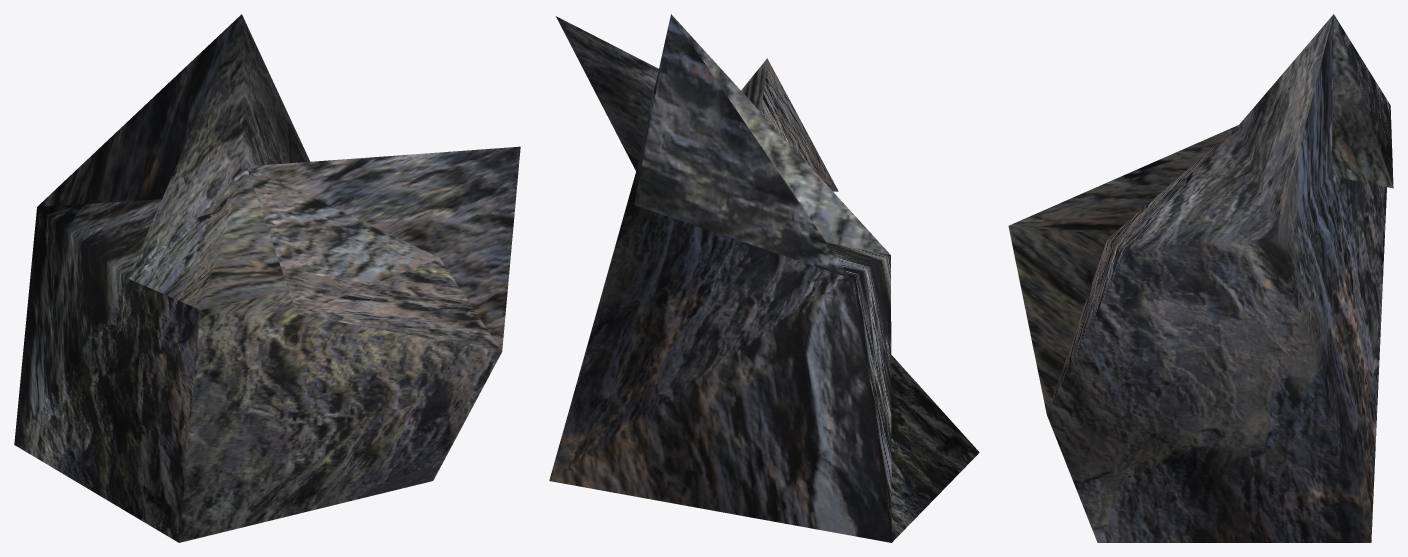
File: Rock1.glb
The picture shows the model from 3 angles, left to right: view 1: azimuth 30°, elevation 25°; view 2: azimuth 150°, elevation 25°; view 3: azimuth 270°, elevation 25°; orthographic projection. The views are drawn at different scales.
Visible parts, largest first — view 1: Cube.002; view 2: Cube.002; view 3: Cube.002.
Boxes of the visible parts, x1,y1,x2,y2 form: Cube.002: (14, 14, 520, 542); Cube.002: (549, 14, 979, 542); Cube.002: (1008, 14, 1393, 542).
Size of the model in its own units: 3.14 by 3.11 by 2.27.
1 material, 1 textured.
